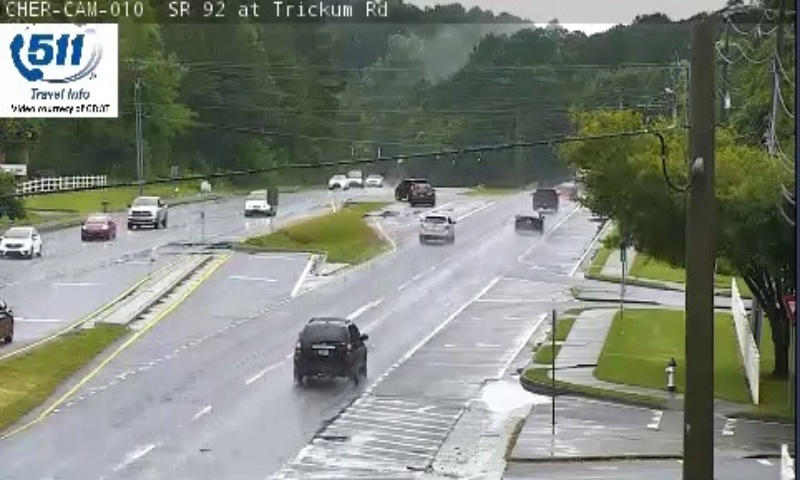car: (292, 317, 365, 377), (418, 212, 453, 240), (514, 209, 542, 232)
